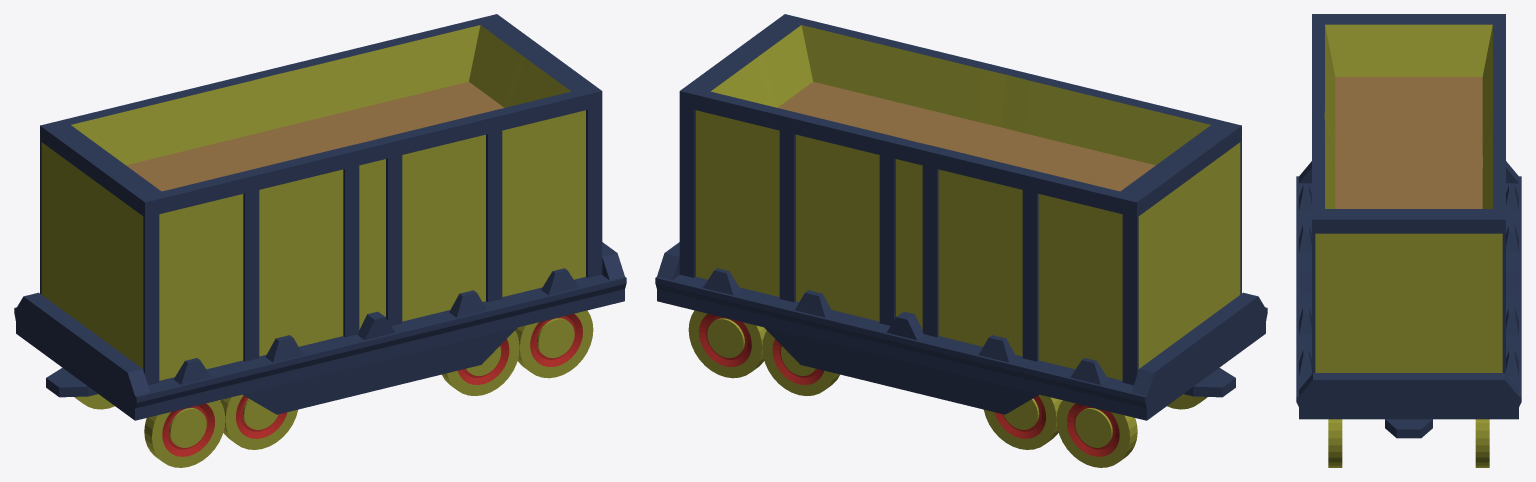
File: CargoWheels03.fbx
3 renders of one model, left to right at view 1: azimuth 30°, elevation 25°; view 2: azimuth 150°, elevation 25°; view 3: azimuth 270°, elevation 25°, orthographic. The views are drawn at different scales.
Visible parts, largest first — view 1: CargoWheels03; view 2: CargoWheels03; view 3: CargoWheels03.
Boxes of the visible parts, <box> form: CargoWheels03: <box>14,14,626,467</box>; CargoWheels03: <box>655,14,1267,467</box>; CargoWheels03: <box>1296,14,1521,467</box>.
Bounding box in the file's own units: 856 × 433 × 339.
